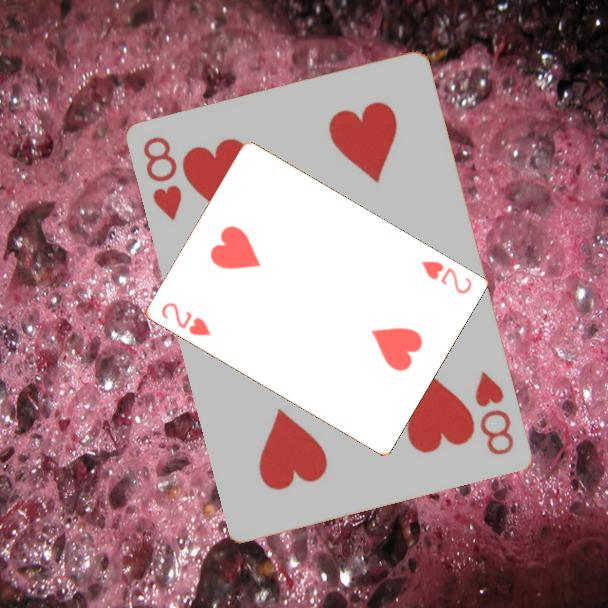h02: (157, 299, 214, 339), (418, 257, 475, 297)
h08: (140, 133, 186, 224), (472, 368, 517, 459)
